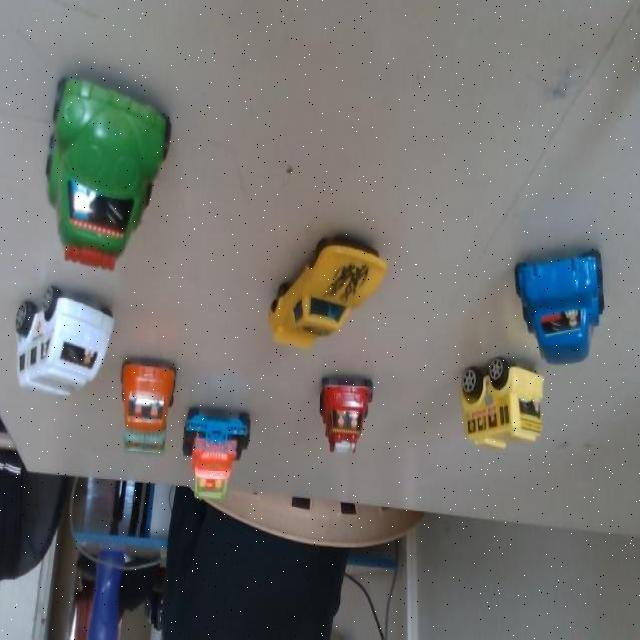car: (14, 74, 179, 272), (0, 270, 120, 418), (254, 231, 391, 356), (510, 237, 614, 372), (301, 357, 379, 468), (450, 350, 535, 448), (183, 409, 260, 508), (112, 351, 177, 467)
